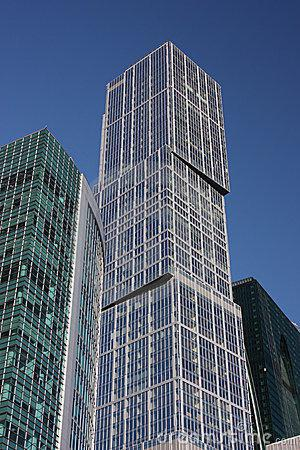affected: (87, 34, 273, 450)
